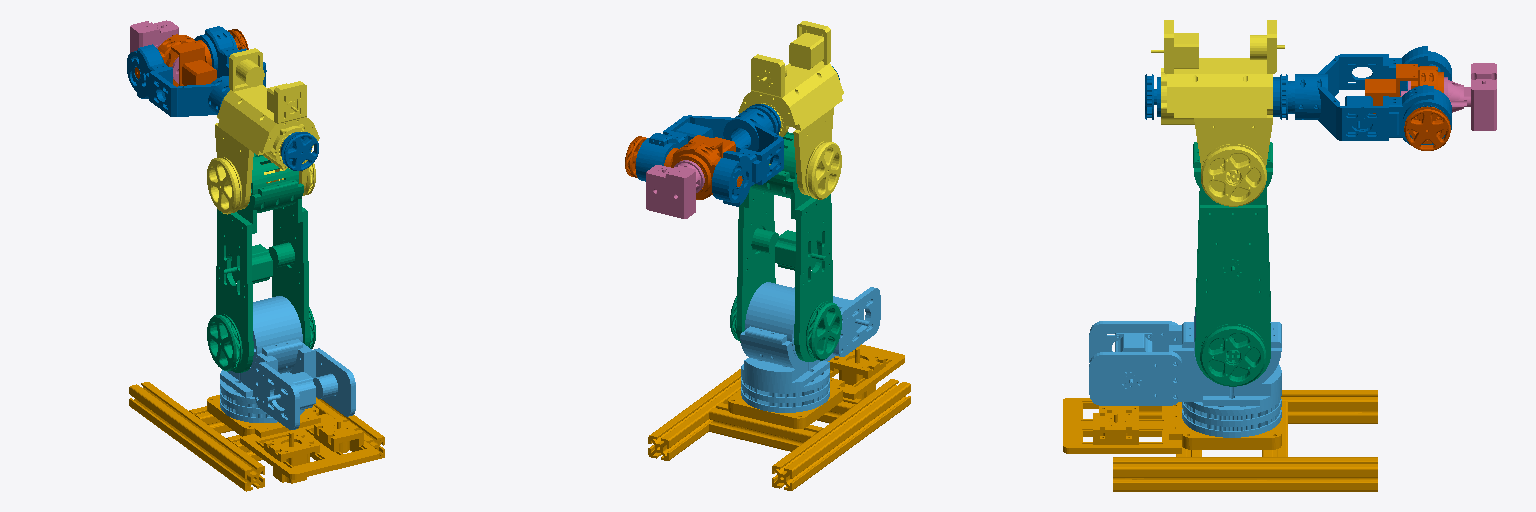
robot.urdf — robot_arm:
<?xml version="1.0" ?>
<!-- =================================================================================== -->
<!-- |    This document was autogenerated by xacro from [local-path]/maven_ws/src/robot_arm_description/urdf/urdf_assembly.xacro | -->
<!-- |    EDITING THIS FILE BY HAND IS NOT RECOMMENDED                                 | -->
<!-- =================================================================================== -->
<robot name="robot_arm">
    
    <link name="base_link">
  <inertial>
    <origin xyz="0 0 0" rpy="0 0 0"/>
    <mass value="2.200366644976027"/>
    <inertia ixx="0.02691" iyy="0.015633" izz="0.040737" ixy="-0.000363" iyz="0.001133" ixz="-0.000114"/>
  </inertial>
  <visual>
    <origin xyz="0 0 0" rpy="0 0 0"/>
    <geometry>
      <mesh filename="package://robot_arm_description/meshes/base_link.stl" scale="0.001 0.001 0.001"/>
    </geometry>
    <material name="silver"/>
  </visual>
  <collision>
    <origin xyz="0 0 0" rpy="0 0 0"/>
    <geometry>
      <mesh filename="package://robot_arm_description/meshes/base_link.stl" scale="0.001 0.001 0.001"/>
    </geometry>
  </collision>
</link>

<link name="link_1_1">
  <inertial>
    <origin xyz="0 0 0.024001498636141927" rpy="0 0 0"/>
    <mass value="2.030739431813925"/>
    <inertia ixx="0.014477" iyy="0.006803" izz="0.0131" ixy="-0.000145" iyz="0.000726" ixz="1.6e-05"/>
  </inertial>
  <visual>
    <origin xyz="0 0 -0.117341" rpy="0 0 0"/>
    <geometry>
      <mesh filename="package://robot_arm_description/meshes/link_1_1.stl" scale="0.001 0.001 0.001"/>
    </geometry>
    <material name="silver"/>
  </visual>
  <collision>
    <origin xyz="0 0 -0.117341" rpy="0 0 0"/>
    <geometry>
      <mesh filename="package://robot_arm_description/meshes/link_1_1.stl" scale="0.001 0.001 0.001"/>
    </geometry>
  </collision>
</link>

<link name="link_2_1">
  <inertial>
    <origin xyz="0 0 0.13687546860146899" rpy="0 0 0"/>
    <mass value="1.6626610036452254"/>
    <inertia ixx="0.024251" iyy="0.026584" izz="0.005086" ixy="0.0" iyz="7e-06" ixz="-2.6e-05"/>
  </inertial>
  <visual>
    <origin xyz="0 0.002 -0.199341" rpy="0 0 0"/>
    <geometry>
      <mesh filename="package://robot_arm_description/meshes/link_2_1.stl" scale="0.001 0.001 0.001"/>
    </geometry>
    <material name="silver"/>
  </visual>
  <collision>
    <origin xyz="0 0 -0.199341" rpy="0 0 0"/>
    <geometry>
      <mesh filename="package://robot_arm_description/meshes/link_2_1.stl" scale="0.001 0.001 0.001"/>
    </geometry>
  </collision>
</link>

<link name="link_3_1">
  <inertial>
    <origin xyz="0 -0.016283006892585307 0.07497937866412202" rpy="0 0 0"/>
    <mass value="9.121346283290384"/>
    <inertia ixx="0.063998" iyy="0.062586" izz="0.038355" ixy="2.5e-05" iyz="0.007821" ixz="-0.000107"/>
  </inertial>
  <visual>
    <origin xyz="0 0.002793 -0.498507" rpy="0 0 0"/>
    <geometry>
      <mesh filename="package://robot_arm_description/meshes/link_3_1.stl" scale="0.001 0.001 0.001"/>
    </geometry>
    <material name="silver"/>
  </visual>
  <collision>
    <origin xyz="0 0.002793 -0.498507" rpy="0 0 0"/>
    <geometry>
      <mesh filename="package://robot_arm_description/meshes/link_3_1.stl" scale="0.001 0.001 0.001"/>
    </geometry>
  </collision>
</link>

<link name="link_4_1">
  <inertial>
    <origin xyz="0.005513953778460314 0.2625680653929481 4.057984306360396e-06" rpy="0 0 0"/>
    <mass value="7.5787166188185005"/>
    <inertia ixx="0.126085" iyy="0.027107" izz="0.147683" ixy="-0.000913" iyz="-1e-06" ixz="-2e-06"/>
  </inertial>
  <visual>
    <origin xyz="0.002859 0.112793 -0.596394" rpy="0 0 0"/>
    <geometry>
      <mesh filename="package://robot_arm_description/meshes/link_4_1.stl" scale="0.001 0.001 0.001"/>
    </geometry>
    <material name="silver"/>
  </visual>
  <collision>
    <origin xyz="0.002859 0.112793 -0.596394" rpy="0 0 0"/>
    <geometry>
      <mesh filename="package://robot_arm_description/meshes/link_4_1.stl" scale="0.001 0.001 0.001"/>
    </geometry>
  </collision>
</link>

<link name="link_5_1">
  <inertial>
    <origin xyz="-0.07848672877351807 -0.01878037329851351 1.0025048180262175e-05" rpy="0 0 0"/>
    <mass value="3.0872435381050845"/>
    <inertia ixx="0.004619" iyy="0.008205" izz="0.009933" ixy="-0.001102" iyz="2e-06" ixz="0.0"/>
  </inertial>
  <visual>
    <origin xyz="-0.094641 -0.289485 -0.596394" rpy="0 0 0"/>
    <geometry>
      <mesh filename="package://robot_arm_description/meshes/link_5_1.stl" scale="0.001 0.001 0.001"/>
    </geometry>
    <material name="silver"/>
  </visual>
  <collision>
    <origin xyz="-0.094641 -0.289485 -0.596394" rpy="0 0 0"/>
    <geometry>
      <mesh filename="package://robot_arm_description/meshes/link_5_1.stl" scale="0.001 0.001 0.001"/>
    </geometry>
  </collision>
</link>

<link name="link_6_1">
  <inertial>
    <origin xyz="-0.0006916944165798809 0.03632808398557291 -0.0013926003723436775" rpy="0 0 0"/>
    <mass value="2.637875841155386"/>
    <inertia ixx="0.004764" iyy="0.001978" izz="0.004912" ixy="4.3e-05" iyz="8.7e-05" ixz="6.9e-05"/>
  </inertial>
  <visual>
    <origin xyz="0.002859 -0.314485 -0.596394" rpy="0 0 0"/>
    <geometry>
      <mesh filename="package://robot_arm_description/meshes/link_6_1.stl" scale="0.001 0.001 0.001"/>
    </geometry>
    <material name="silver"/>
  </visual>
  <collision>
    <origin xyz="0.002859 -0.314485 -0.596394" rpy="0 0 0"/>
    <geometry>
      <mesh filename="package://robot_arm_description/meshes/link_6_1.stl" scale="0.001 0.001 0.001"/>
    </geometry>
  </collision>
</link>


<joint name="joint_1" type="revolute">
  <origin xyz="0 0 0.117341" rpy="0 0 0"/>
  <parent link="base_link"/>
  <child link="link_1_1"/>
  <axis xyz="-0.0 -0.0 1.0"/>
  <limit upper="2.443461" lower="-2.443461" effort="100" velocity="100"/>
</joint>

<joint name="joint_2" type="revolute">
  <origin xyz="0 0.0 0.082" rpy="0 0 0"/>
  <parent link="link_1_1"/>
  <child link="link_2_1"/>
  <axis xyz="-1.0 -0.0 -0.0"/>
  <limit upper="1.570796" lower="-1.570796" effort="100" velocity="100"/>
</joint>

<joint name="joint_3" type="revolute">
  <origin xyz="0.0 0 0.299166" rpy="0 0 0"/>
  <parent link="link_2_1"/>
  <child link="link_3_1"/>
  <axis xyz="1.0 0.0 0.0"/>
  <limit upper="1.570796" lower="-1.570796" effort="100" velocity="100"/>
</joint>

<joint name="joint_4" type="revolute">
  <origin xyz="0 -0.11 0.097887" rpy="0 0 0"/>
  <parent link="link_3_1"/>
  <child link="link_4_1"/>
  <axis xyz="-0.0 1.0 -0.0"/>
    <limit upper="2.443461" lower="-2.443461" effort="100" velocity="100"/>
</joint>

<joint name="joint_5" type="revolute">
  <origin xyz="0.0975 0.402278 0.0" rpy="0 0 0"/>
  <parent link="link_4_1"/>
  <child link="link_5_1"/>
  <axis xyz="1.0 0.0 0.0"/>
  <limit upper="2.443461" lower="-2.443461" effort="100" velocity="100"/>
</joint>

<joint name="joint_6" type="revolute">
  <origin xyz="-0.0975 0.025 0.0" rpy="0 0 0"/>
  <parent link="link_5_1"/>
  <child link="link_6_1"/>
  <axis xyz="-0.0 1.0 0.0"/>
  <limit upper="2.443461" lower="-2.443461" effort="100" velocity="100"/>
</joint>

</robot>

--- Facts derived from the render (not from the file) ---
Views: 3 orthographic renders of the robot side by side, from view 1: azimuth 30°, elevation 25°; view 2: azimuth 150°, elevation 25°; view 3: azimuth 270°, elevation 25°.
Robot: robot_arm — 7 links, 6 joints (6 revolute); root link base_link; default pose: every joint at zero.
Visible links, largest first — view 1: base_link, link_2_1, link_1_1, link_3_1, link_4_1, link_5_1, link_6_1; view 2: base_link, link_2_1, link_1_1, link_3_1, link_4_1, link_6_1, link_5_1; view 3: base_link, link_3_1, link_1_1, link_2_1, link_4_1, link_5_1, link_6_1.
Link boxes in pixels (x1,y1,x2,y2): base_link: (129,382,384,491); link_2_1: (207,153,315,372); link_1_1: (220,296,355,429); link_3_1: (207,48,319,214); link_4_1: (127,26,318,170); link_5_1: (135,29,248,86); link_6_1: (130,20,178,83); base_link: (648,344,910,490); link_2_1: (730,132,841,361); link_1_1: (740,282,880,412); link_3_1: (738,21,843,199); link_4_1: (636,66,839,206); link_6_1: (646,160,704,218); link_5_1: (625,135,742,199); base_link: (1063,390,1377,491); link_3_1: (1151,20,1284,206); link_1_1: (1089,312,1281,437); link_2_1: (1193,142,1272,386); link_4_1: (1145,46,1451,144); link_5_1: (1365,64,1450,150); link_6_1: (1401,63,1496,130).
Bounding box of the posed robot: 0.28 × 0.6549 × 0.7081 m (x, y, z).
7 mesh visuals loaded from 7 distinct referenced files (7 binary STL).